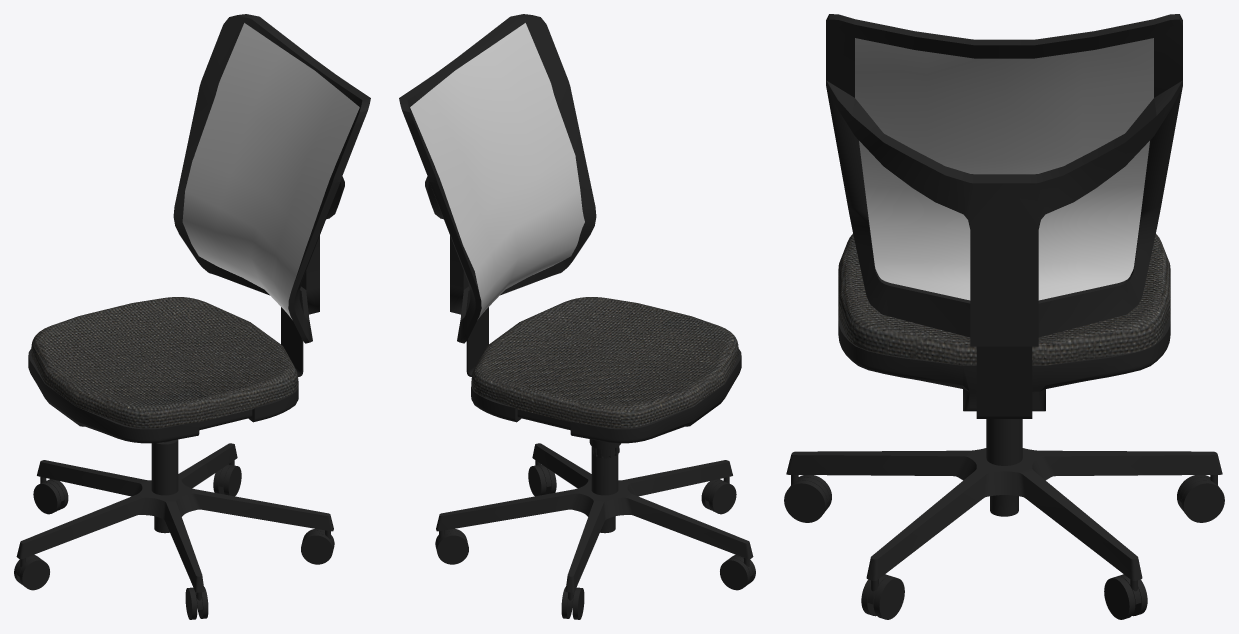
Rendered from chair2013.fbx.
The picture shows the model from 3 angles, left to right: view 1: azimuth 30°, elevation 25°; view 2: azimuth 150°, elevation 25°; view 3: azimuth 270°, elevation 25°; orthographic projection. The views are drawn at different scales.
Parts seen in each view (by area): view 1: Plane002, Box005, Base, Box002, Cylinder009, Cylinder007, Cylinder005, Cylinder003, Box006, Cylinder006, Cylinder004; view 2: Plane002, Box005, Base, Box002, Cylinder009, Cylinder004, Cylinder006, Cylinder003, Box006, Cylinder005, Cylinder007; view 3: Plane002, Base, Box005, Box002, Box006, Cylinder009, Cylinder004, Cylinder007, Cylinder005, Cylinder006.
Part boxes in pixels (x1,y1,x2,y2): Plane002: (173,14,370,343); Box005: (31,297,298,428); Base: (16,443,333,592); Box002: (28,349,298,443); Cylinder009: (151,439,178,533); Cylinder007: (33,477,68,514); Cylinder005: (301,528,334,564); Cylinder003: (14,554,49,590); Box006: (281,307,303,376); Cylinder006: (213,460,241,496); Cylinder004: (185,587,208,619); Plane002: (399,14,596,343); Box005: (471,297,738,428); Base: (436,443,753,592); Box002: (471,349,741,443); Cylinder009: (591,446,618,533); Cylinder004: (701,477,736,514); Cylinder006: (435,528,468,564); Cylinder003: (720,554,755,590); Box006: (466,307,488,376); Cylinder005: (528,460,556,496); Cylinder007: (561,587,584,619); Plane002: (826,14,1182,346); Base: (786,448,1222,580); Box005: (838,234,1170,365); Box002: (838,315,1170,411); Box006: (976,346,1032,418); Cylinder009: (986,419,1022,516); Cylinder004: (784,475,831,522); Cylinder007: (1177,475,1224,522); Cylinder005: (861,574,904,619); Cylinder006: (1104,574,1147,619).
Size of the model in its own units: 66 by 94.79 by 61.17.
